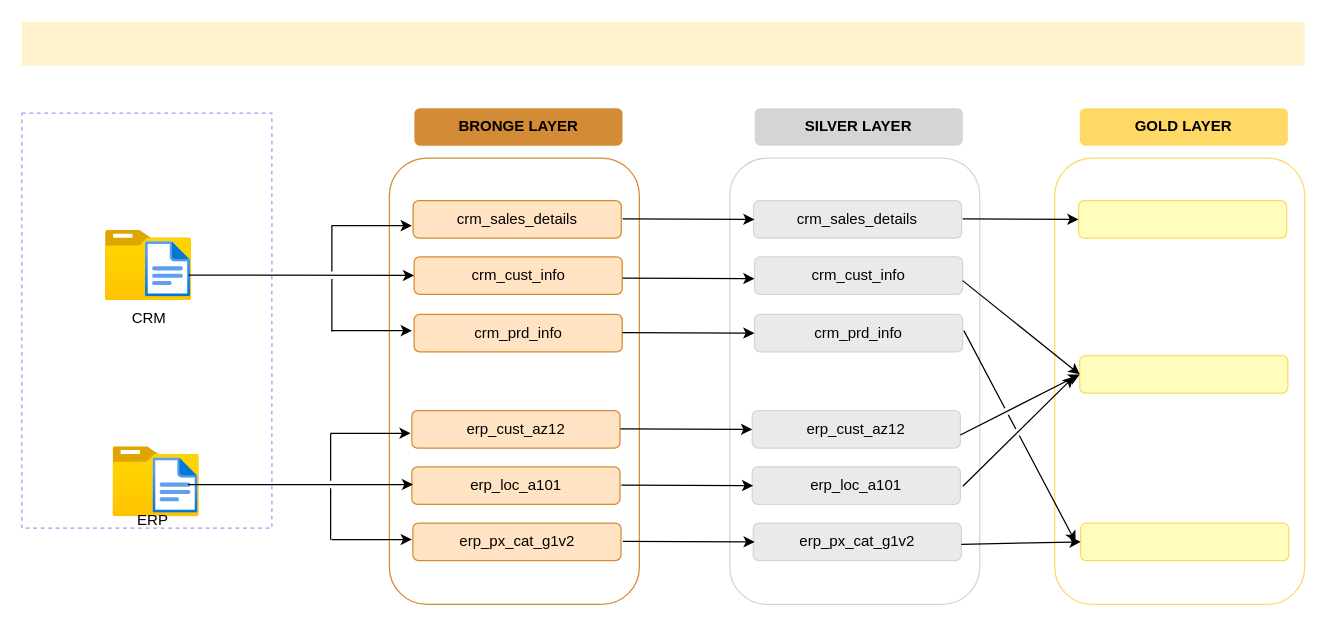
Some shapes in this 1328 by 639 pixel diagram are drawn without their labels. The centre of each missing label's shape, as x and y in pixels:
"Data Flow" goes at (x=662, y=43).
"dim_customers" goes at (x=1183, y=373).
"dim_products" goes at (x=1184, y=541).
"fact_sales" goes at (x=1182, y=218).
"Sources" goes at (x=141, y=100).
